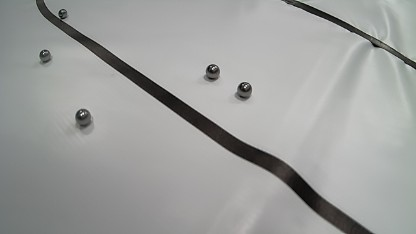ironball: (75, 108, 91, 126), (237, 81, 252, 98), (205, 64, 220, 79), (39, 49, 51, 62), (58, 9, 67, 18)
